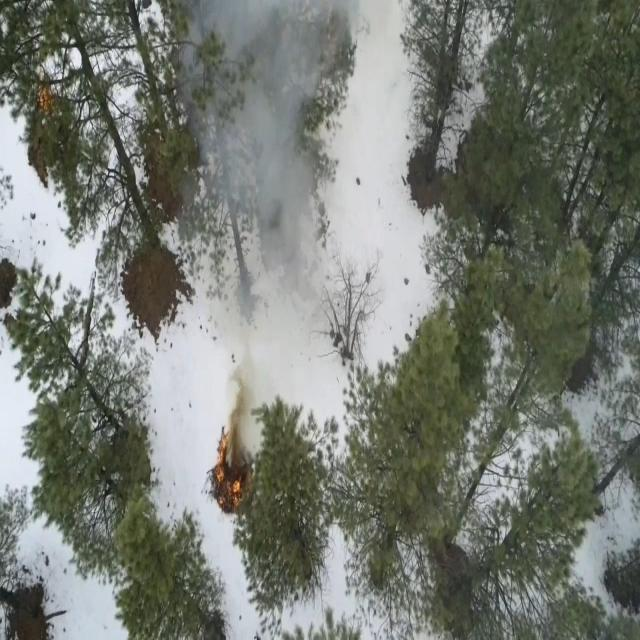Fire: (212, 428, 245, 502)
Smoke: (189, 3, 343, 430)
